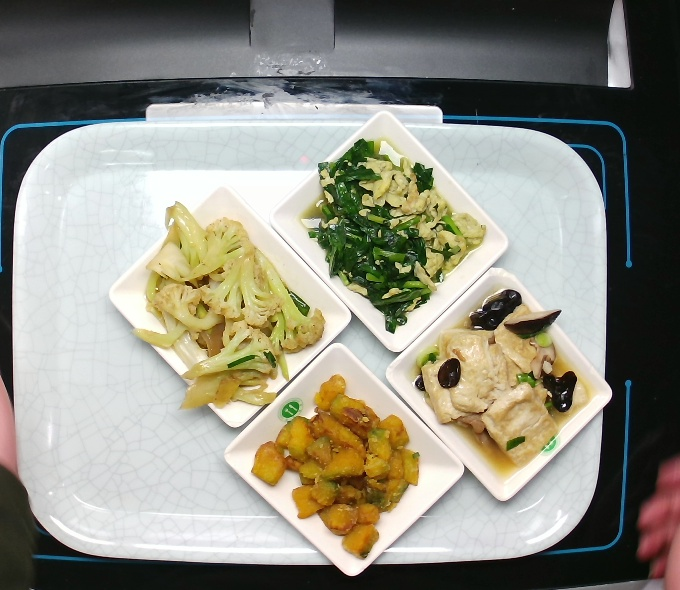wcq-DanHuangNanGua: (248, 358, 430, 556)
wcq-JiaChangDouFu: (401, 287, 589, 472)
wcq-JiuCaiJiDan: (298, 130, 490, 337)
wcq-QiuCai: (134, 202, 326, 417)
